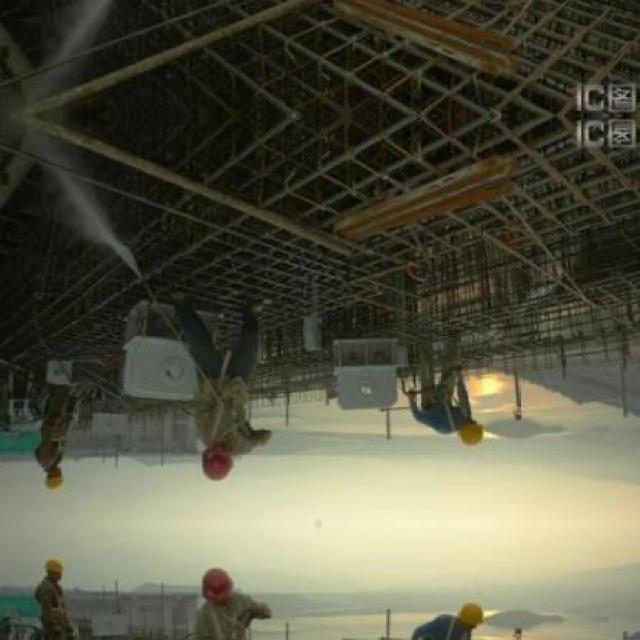con casco: (172, 432, 249, 487), (433, 411, 485, 456), (27, 466, 64, 499)
